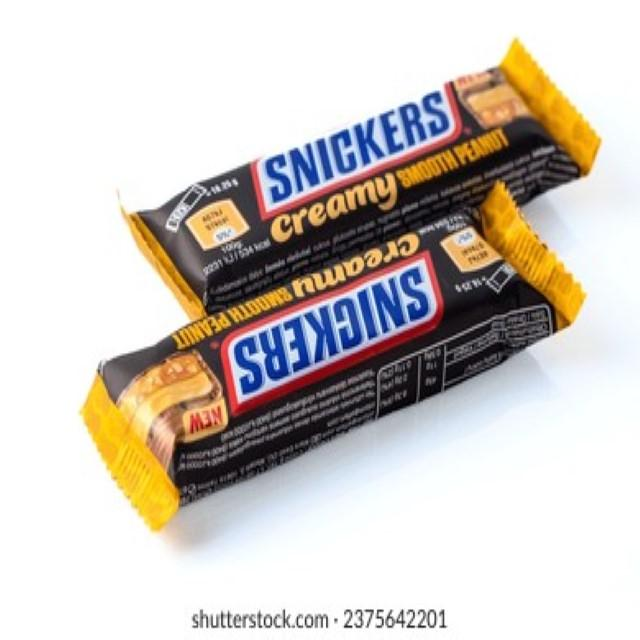snickers_chocolate: (82, 198, 582, 520), (130, 45, 590, 307)
